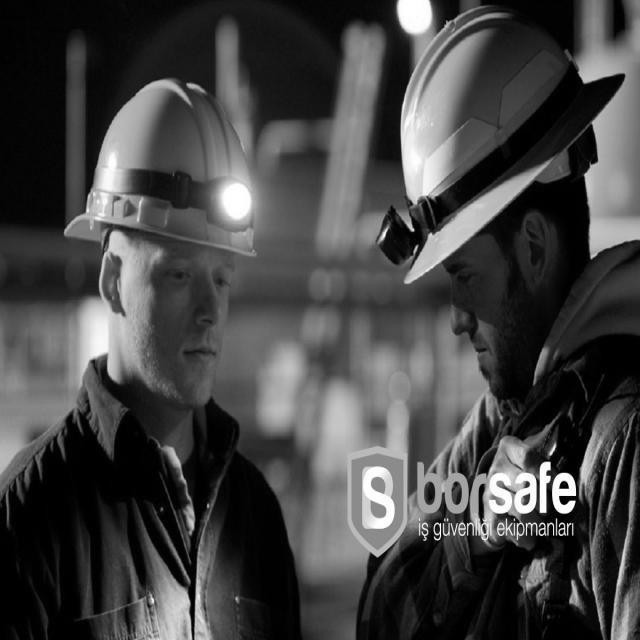safety_helmet: (377, 8, 624, 285), (63, 78, 261, 261)
